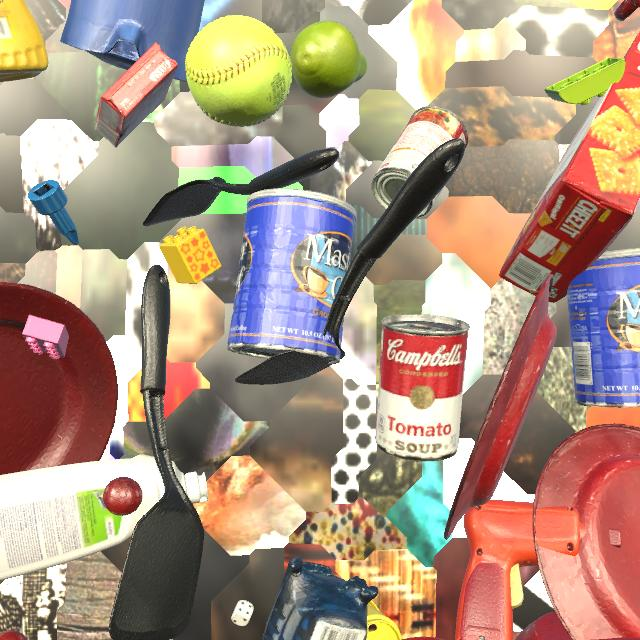ycb_002_master_chef_can: (227, 188, 357, 364), (567, 248, 640, 408)
ycb_003_cracker_box: (499, 31, 640, 303)
ycb_005_tomato_soup_can: (375, 314, 470, 462), (371, 106, 468, 218)
ycb_006_mustard_bottle: (0, 0, 48, 82)
ycb_009_gelatin_box: (95, 42, 178, 148)
ycb_016_pear: (290, 21, 367, 98)
